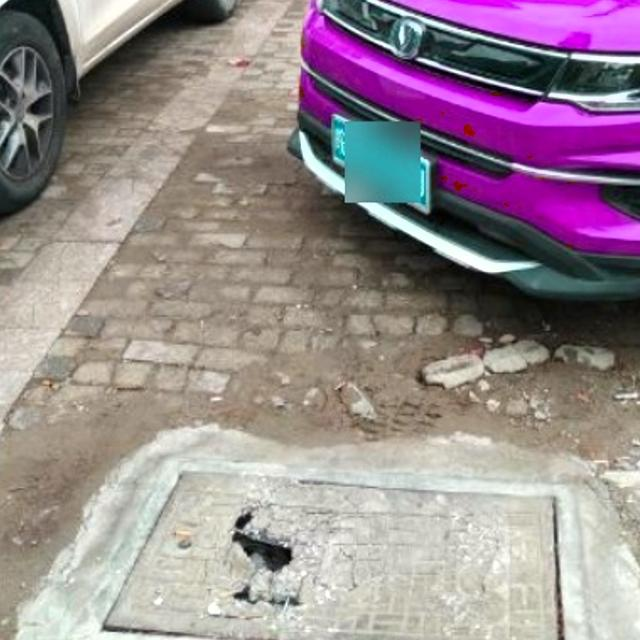broke: (83, 457, 589, 640)
